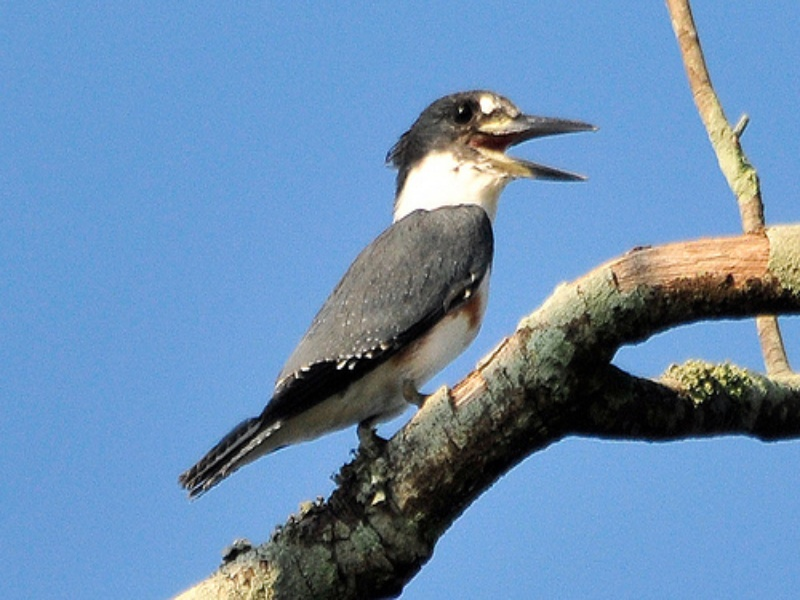kingfisher: (169, 85, 600, 517)
